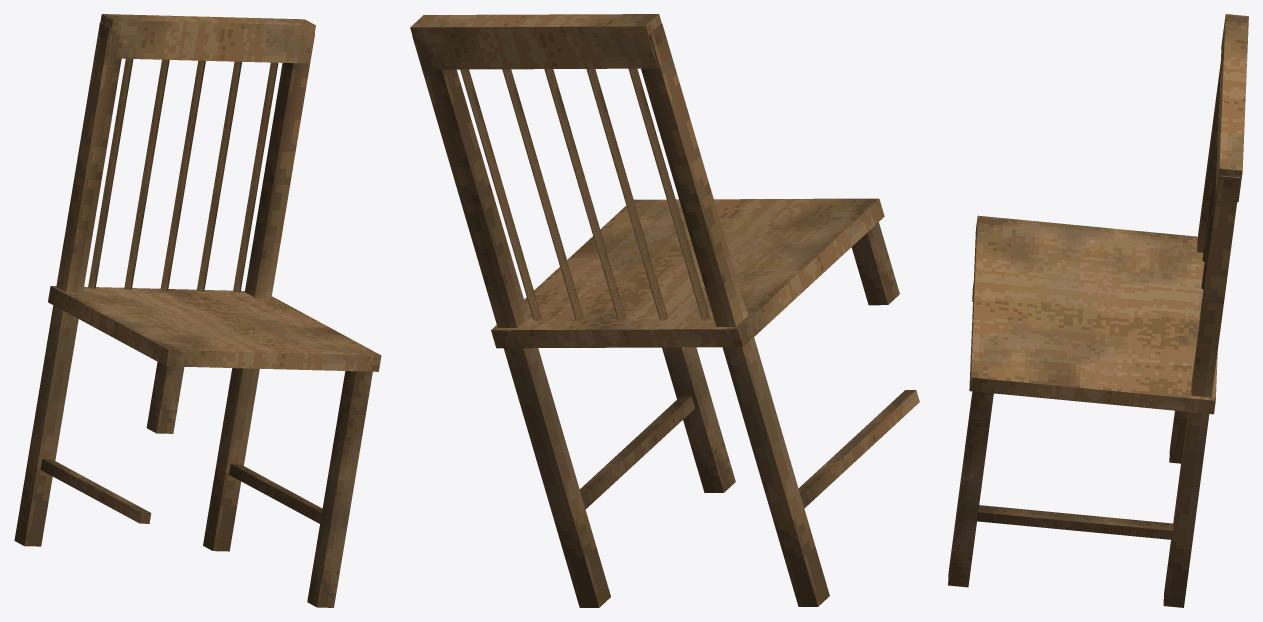
File: chair_broken.glb
3 renders of one model, left to right at view 1: azimuth 30°, elevation 25°; view 2: azimuth 150°, elevation 25°; view 3: azimuth 270°, elevation 25°, orthographic. The views are drawn at different scales.
Visible parts, largest first — view 1: chair_broken; view 2: chair_broken; view 3: chair_broken.
Part boxes in pixels (x1,y1,x2,y2): chair_broken: [14, 14, 381, 607]; chair_broken: [410, 14, 919, 607]; chair_broken: [948, 14, 1248, 607].
Size of the model in its own units: 0.6434 by 1.04 by 0.5138.
1 material, 1 textured.
